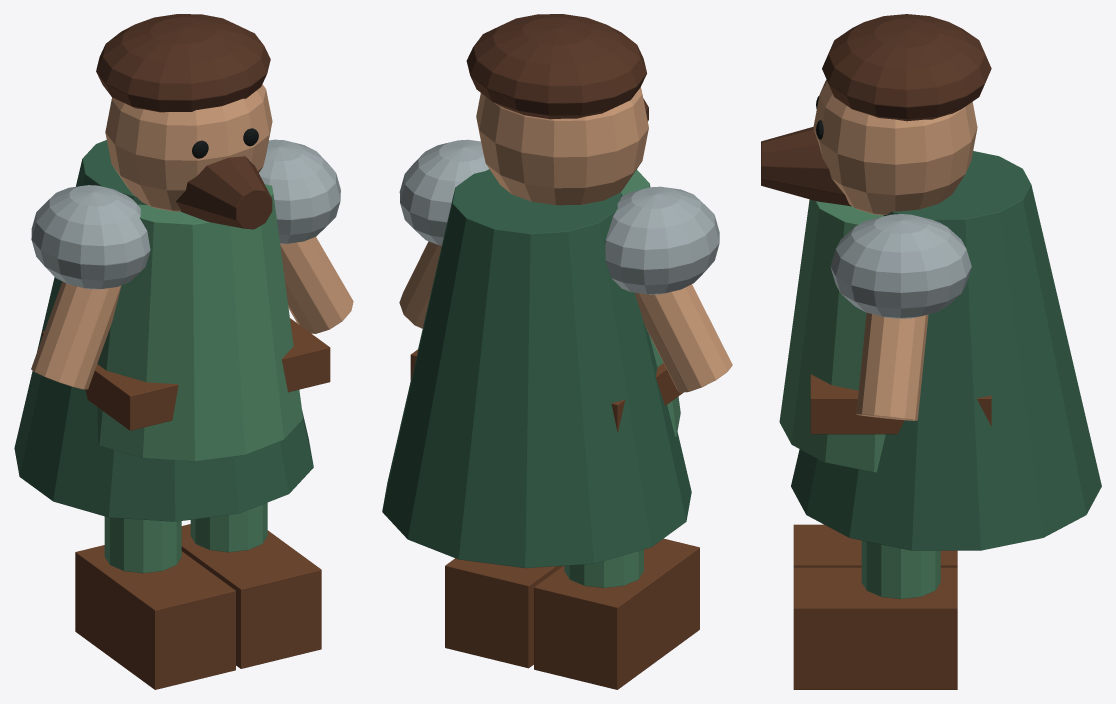
File: CH_Bram.fbx
The picture shows the model from 3 angles, left to right: view 1: azimuth 30°, elevation 25°; view 2: azimuth 150°, elevation 25°; view 3: azimuth 270°, elevation 25°; orthographic projection. The views are drawn at different scales.
Parts seen in each view (by area): view 1: CH_Bram; view 2: CH_Bram; view 3: CH_Bram.
Boxes of the visible parts, x1=… form: CH_Bram: x1=14, y1=14, x2=353, y2=689; CH_Bram: x1=382, y1=14, x2=732, y2=689; CH_Bram: x1=761, y1=14, x2=1101, y2=689.
Bounding box in the file's own units: 132 × 120 × 241.
